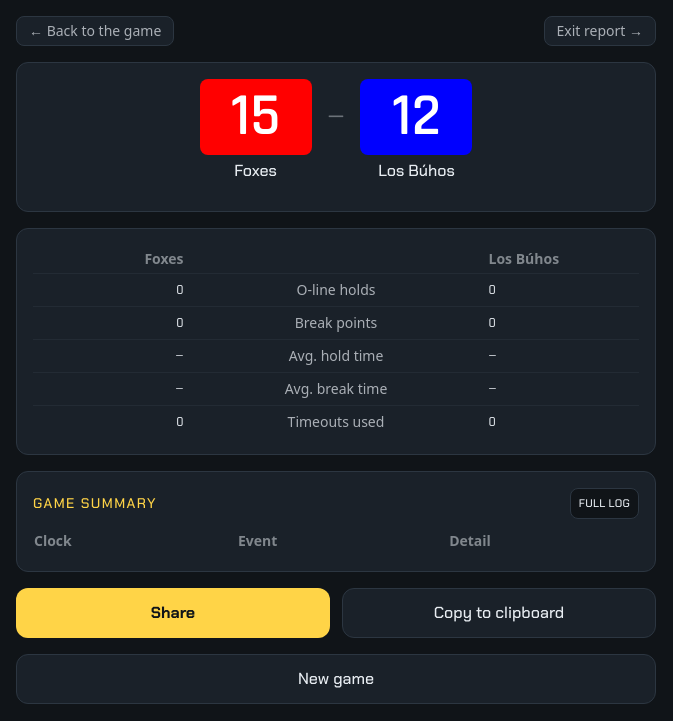
Test: report screen — share as image › says so when the image could not be drawn at all
What coordinates should you click on to do the following:
click the button "Share"
I would click on:
 (173, 612)
Its box is [16,588,330,638].
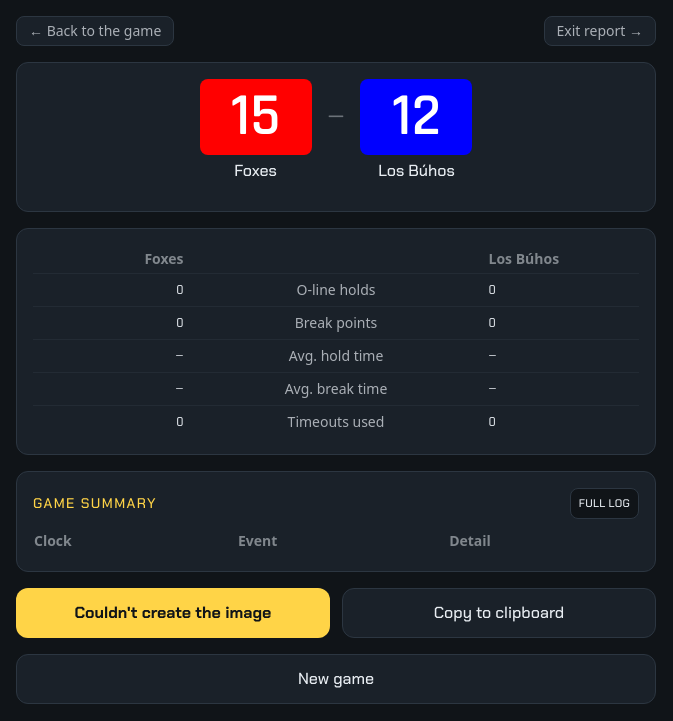
Now the button "Couldn't create the image" is shown, box [16,588,330,638]
